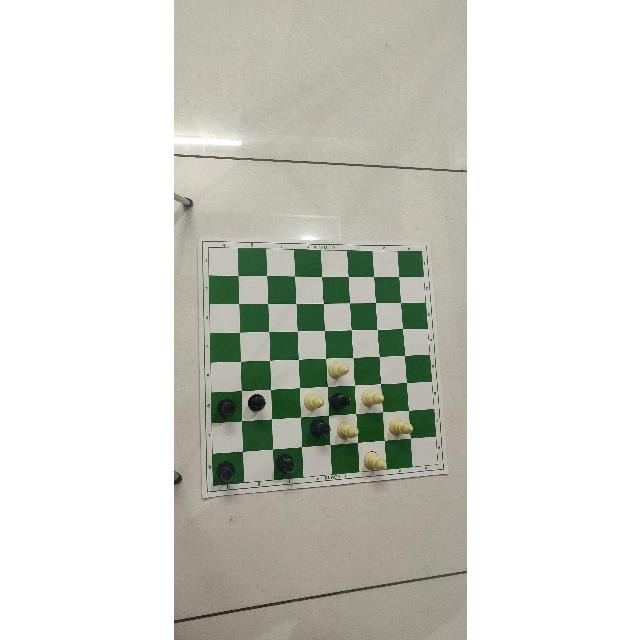black-bishop: (299, 418, 330, 443), (274, 449, 300, 477), (243, 392, 268, 418), (329, 387, 355, 412), (215, 460, 235, 483), (216, 397, 236, 417)
white-bishop: (331, 415, 359, 442), (361, 444, 388, 472), (355, 387, 383, 412), (386, 412, 414, 437), (327, 359, 353, 385), (299, 389, 326, 413)
